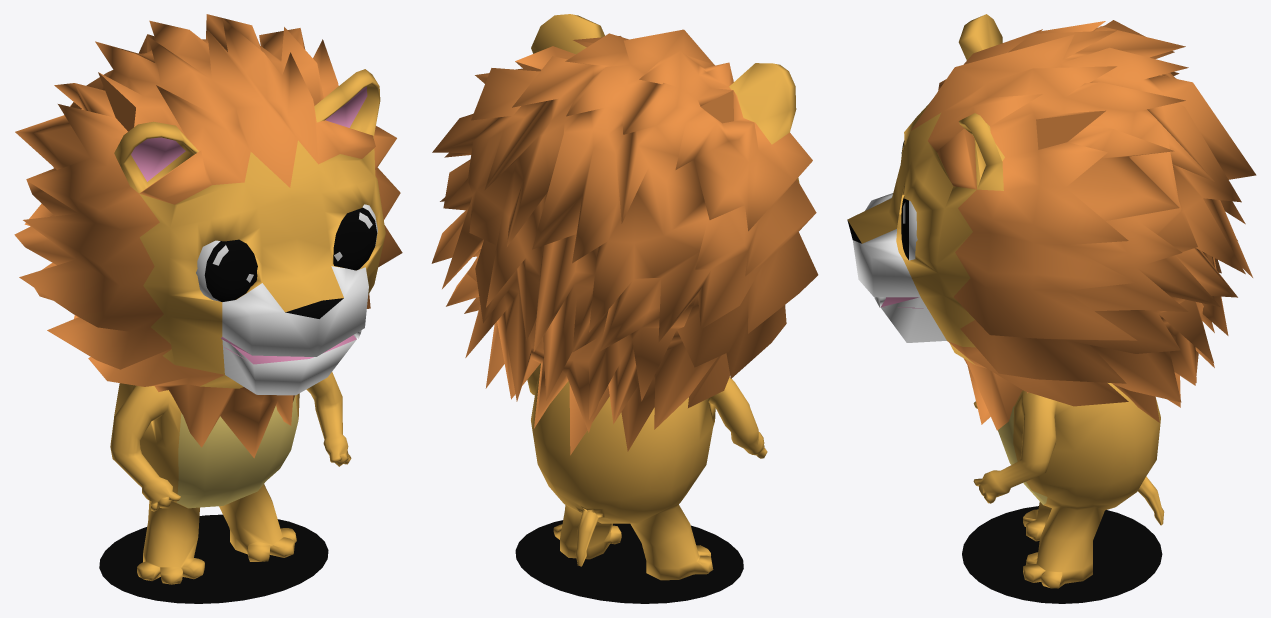
The model's file is gaore.glb.
3 views of the same model, side by side, from view 1: azimuth 30°, elevation 25°; view 2: azimuth 150°, elevation 25°; view 3: azimuth 270°, elevation 25° (orthographic).
Parts seen in each view (by area): view 1: gaorehead.001, gaorebpdy.001, 円, 眼球.001; view 2: gaorehead.001, gaorebpdy.001, 円; view 3: gaorehead.001, gaorebpdy.001, 円, 眼球.001.
Boxes of the visible parts, x1,y1,x2,y2 form: gaorehead.001: (14, 14, 402, 458); gaorebpdy.001: (110, 372, 351, 584); 円: (99, 514, 328, 603); 眼球.001: (196, 204, 377, 301); gaorehead.001: (431, 14, 818, 455); gaorebpdy.001: (527, 363, 767, 580); 円: (515, 520, 743, 603); gaorehead.001: (847, 14, 1256, 430); gaorebpdy.001: (973, 383, 1164, 588); 円: (962, 506, 1162, 603); 眼球.001: (901, 140, 917, 260).
Bounding box in the file's own units: 3.57 × 5.72 × 4.08.
